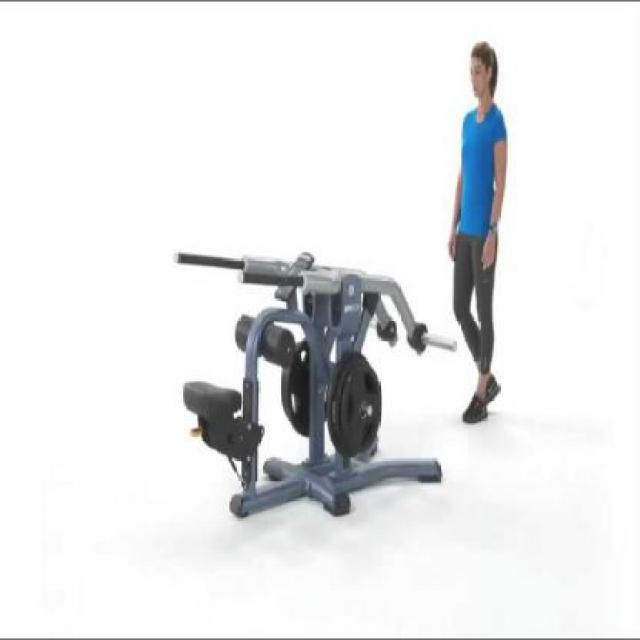seated dip machine: (173, 248, 444, 522)
